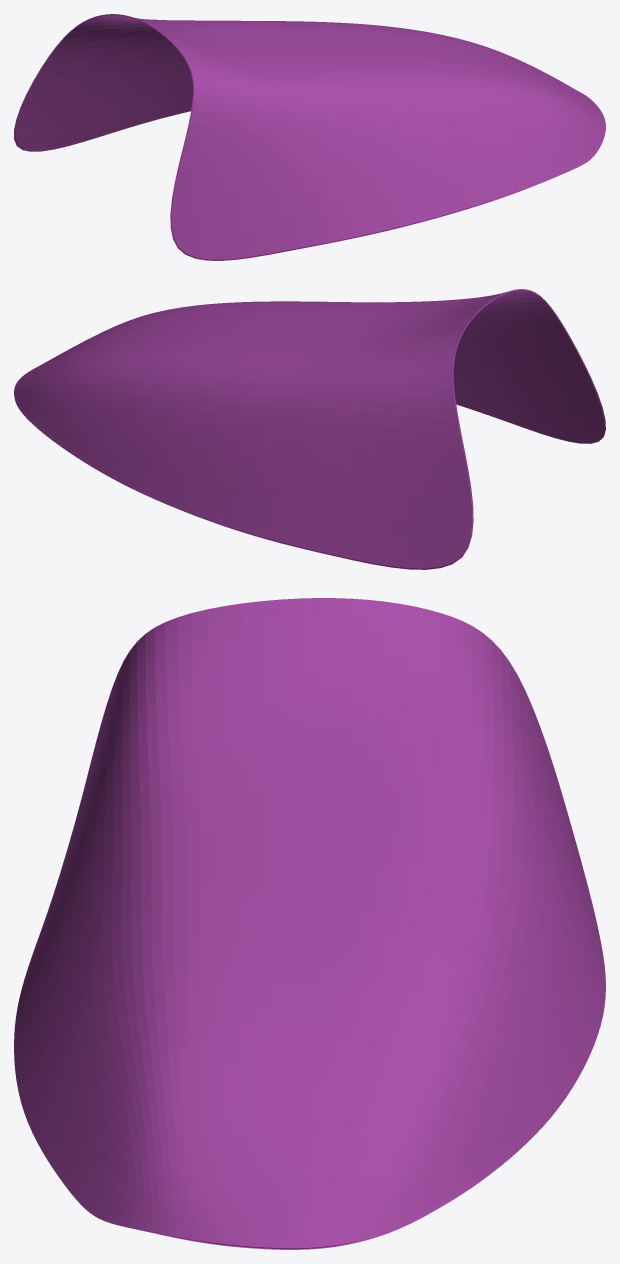
File: frontLeftPurple.obj
3 renders of one model, top to bottom at view 1: azimuth 30°, elevation 25°; view 2: azimuth 150°, elevation 25°; view 3: azimuth 270°, elevation 25°, orthographic. The views are drawn at different scales.
Parts seen in each view (by area): view 1: Plane; view 2: Plane; view 3: Plane.
Boxes of the visible parts, <box> form: Plane: <box>14,14,605,260</box>; Plane: <box>14,289,605,569</box>; Plane: <box>14,598,605,1249</box>.
Size of the model in its own units: 22.11 by 7.75 by 13.46.
1 material, 1 textured.
